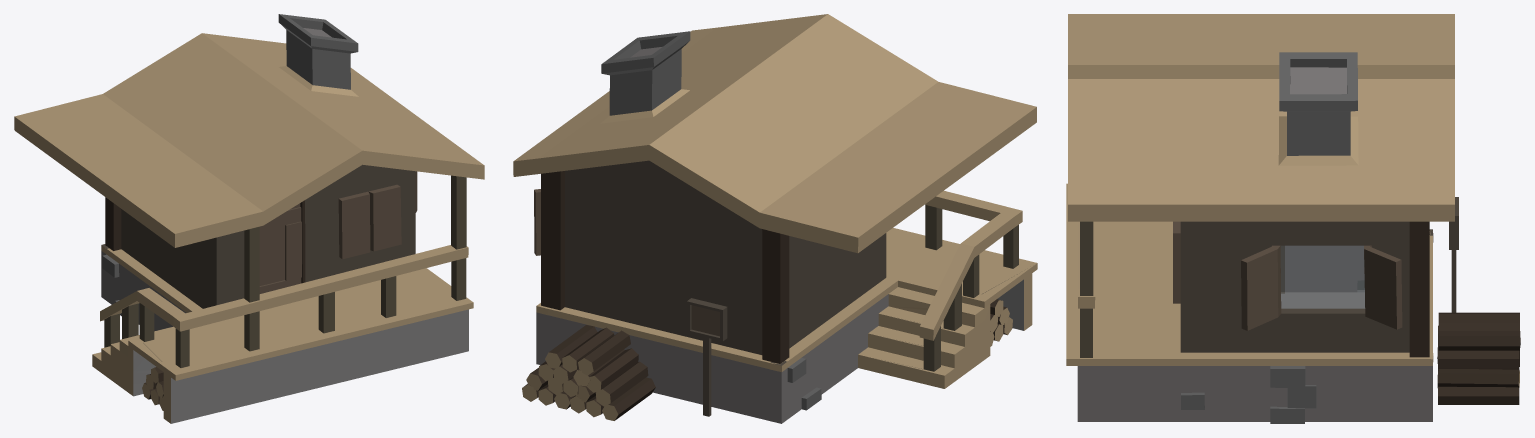
File: House.fbx
3 renders of one model, left to right at view 1: azimuth 30°, elevation 25°; view 2: azimuth 150°, elevation 25°; view 3: azimuth 270°, elevation 25°, orthographic. The views are drawn at different scales.
Visible parts, largest first — view 1: polySurface14, pCube4; view 2: polySurface14; view 3: polySurface14.
Part boxes in pixels (x1,y1,x2,y2): polySurface14: [14, 14, 484, 423]; pCube4: [259, 203, 301, 293]; polySurface14: [513, 14, 1037, 423]; polySurface14: [1066, 14, 1520, 423].
Size of the model in its own units: 388 by 317 by 400.
